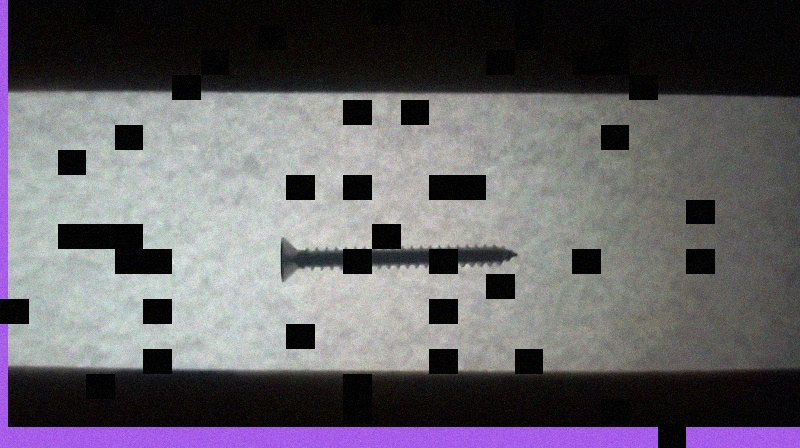S002: (276, 234, 519, 285)
